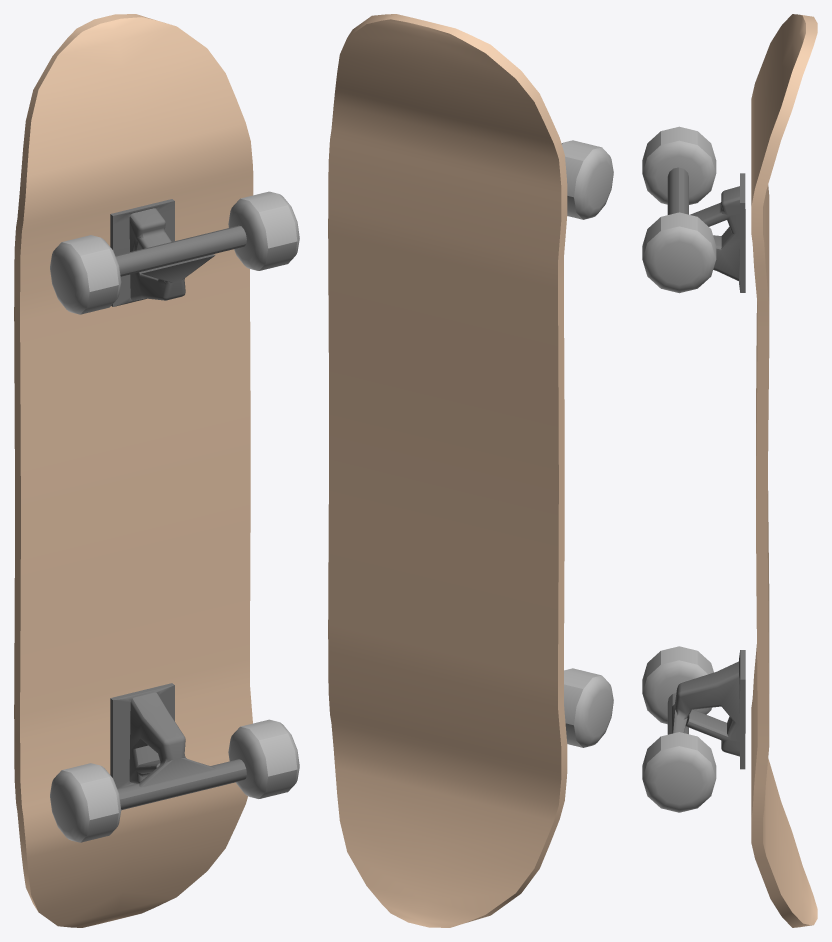
Rendered from Skate.glb.
The picture shows the model from 3 angles, left to right: view 1: azimuth 30°, elevation 25°; view 2: azimuth 150°, elevation 25°; view 3: azimuth 270°, elevation 25°; orthographic projection.
Visible parts, largest first — view 1: SkateBoard, Wheel, Trucks; view 2: SkateBoard, Wheel; view 3: SkateBoard, Wheel, Trucks.
Boxes of the visible parts, x1=… form: SkateBoard: x1=14, y1=14, x2=253, y2=927; Wheel: x1=50, y1=191, x2=299, y2=842; Trucks: x1=110, y1=199, x2=246, y2=810; SkateBoard: x1=328, y1=14, x2=567, y2=927; Wheel: x1=561, y1=140, x2=613, y2=747; SkateBoard: x1=751, y1=14, x2=817, y2=927; Wheel: x1=642, y1=126, x2=716, y2=812; Trucks: x1=667, y1=167, x2=745, y2=769.
Bounding box in the file's own units: 0.1201 × 0.4439 × 0.0796.
